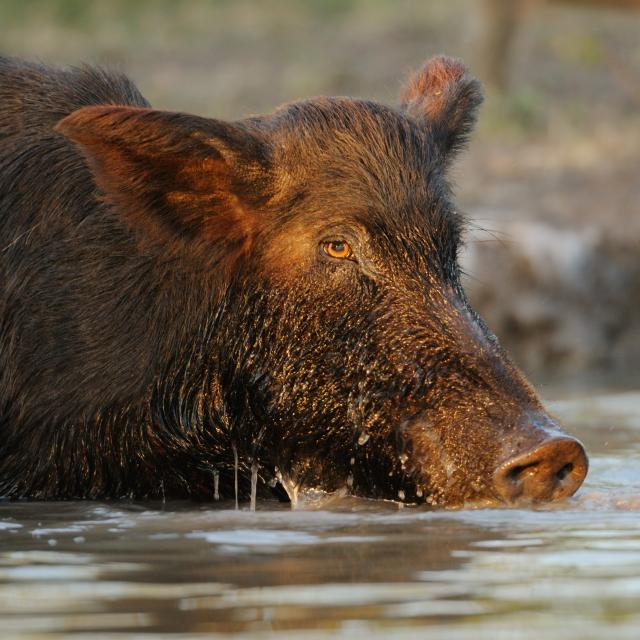Boar: (0, 48, 589, 513)
